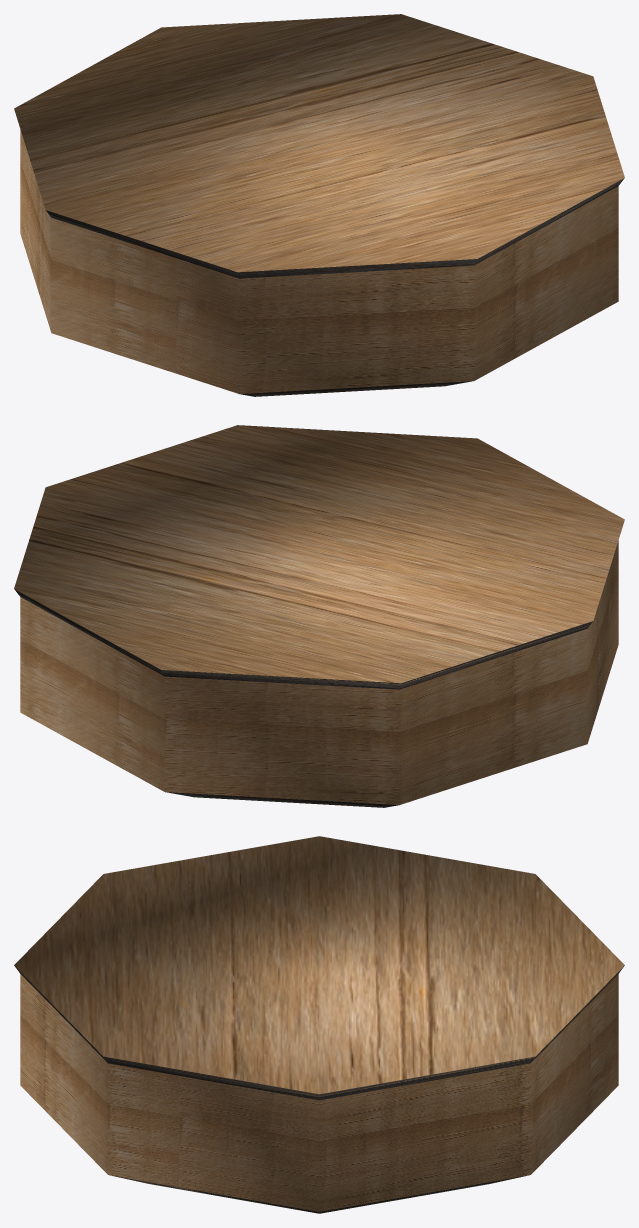
The model's file is GreekDrum.fbx.
3 views of the same model, one above another, from view 1: azimuth 30°, elevation 25°; view 2: azimuth 150°, elevation 25°; view 3: azimuth 270°, elevation 25° (orthographic). The views are drawn at different scales.
Visible parts, largest first — view 1: Cylinder.004; view 2: Cylinder.004; view 3: Cylinder.004.
Part boxes in pixels (x1=…): Cylinder.004: x1=14, y1=14, x2=624, y2=396; Cylinder.004: x1=14, y1=425, x2=624, y2=807; Cylinder.004: x1=14, y1=836, x2=624, y2=1213.
Size of the model in its own units: 204 by 53.96 by 204.
